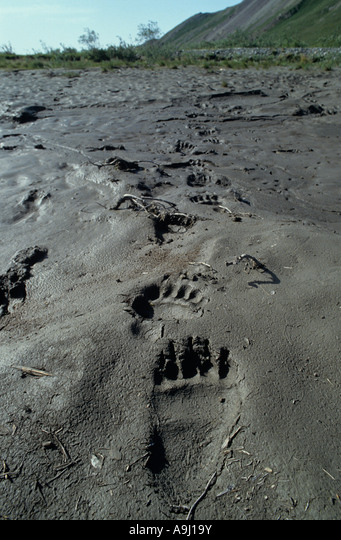bear: (152, 336, 244, 481), (133, 260, 208, 327), (142, 202, 204, 251)
